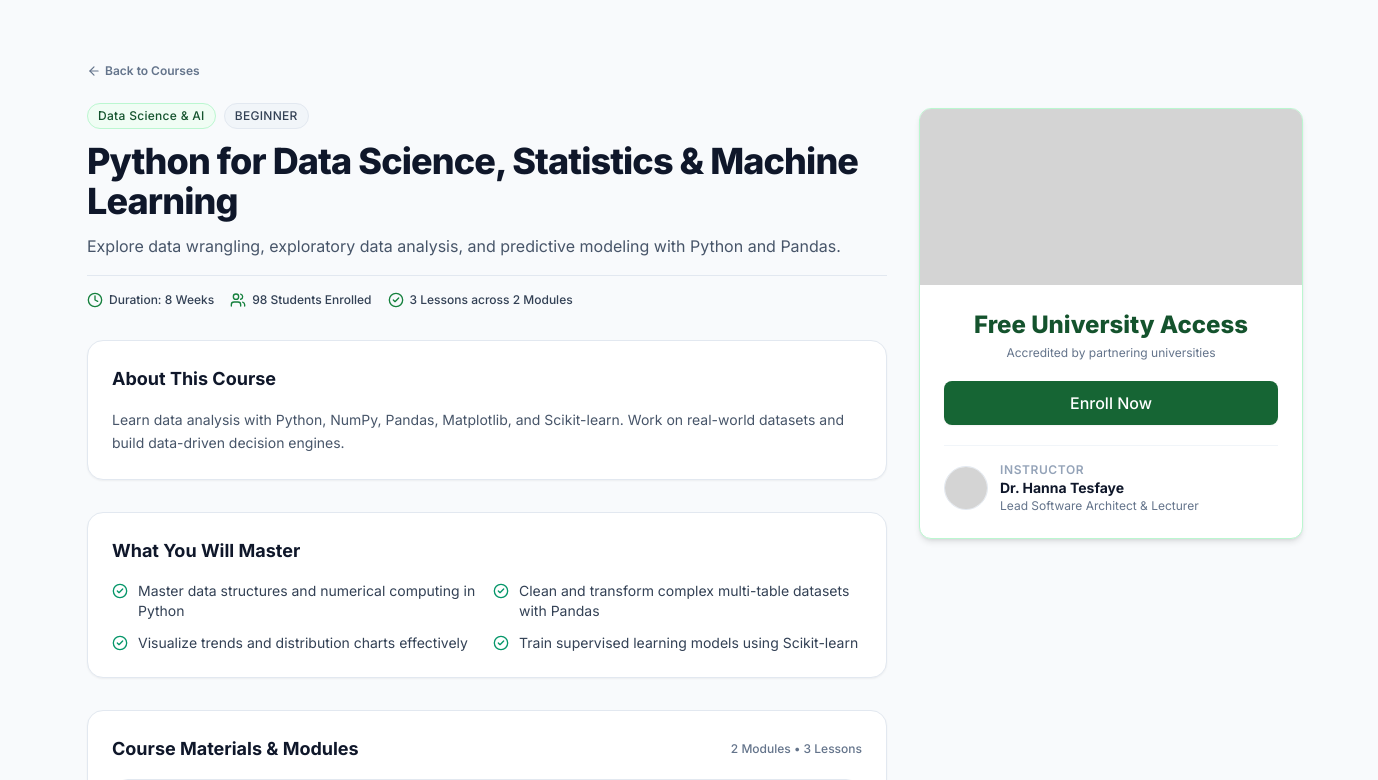
Scenario: Course Enrollment Restrictions & Permissions › redirects unauthenticated visitors to login when clicking Enroll Now
Click the button "Enroll Now" at (1111, 403), box [944,381,1278,425]
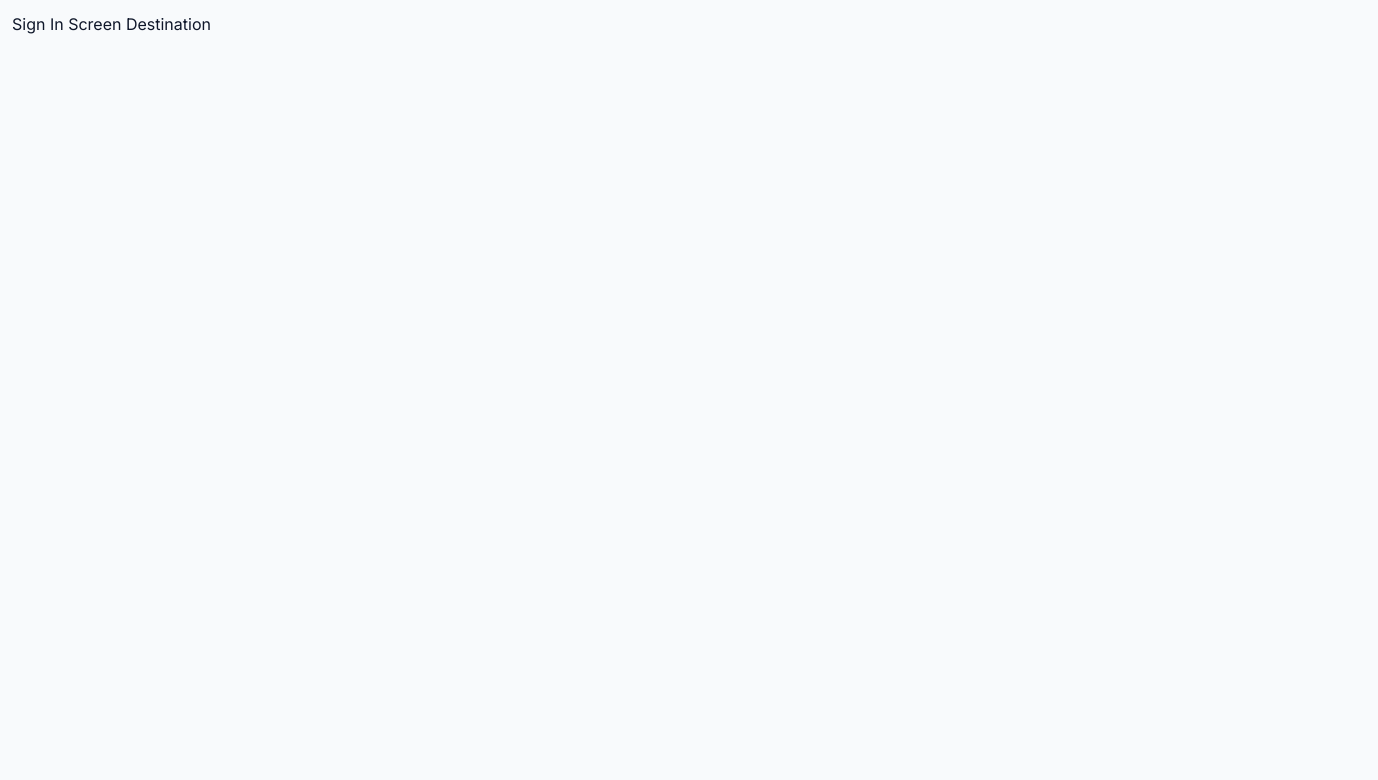
Check: the text "Sign In Screen Destination" is shown, box [12,14,211,34]
